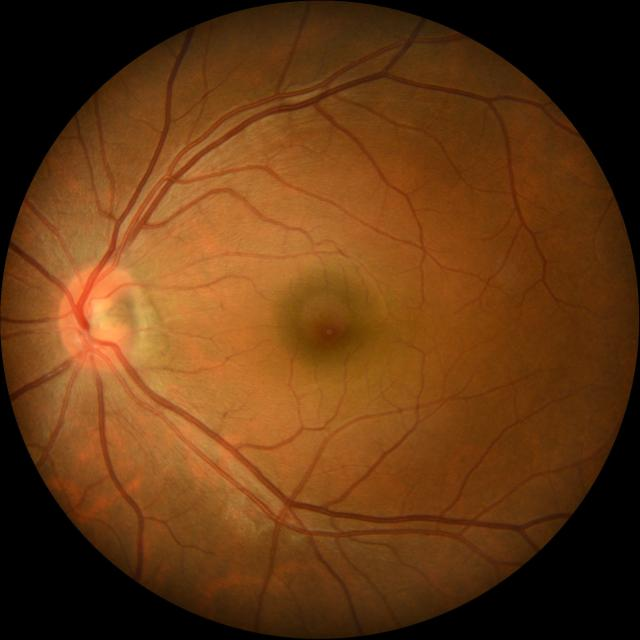OC: (86, 302, 116, 334)
OD: (59, 267, 138, 368)
